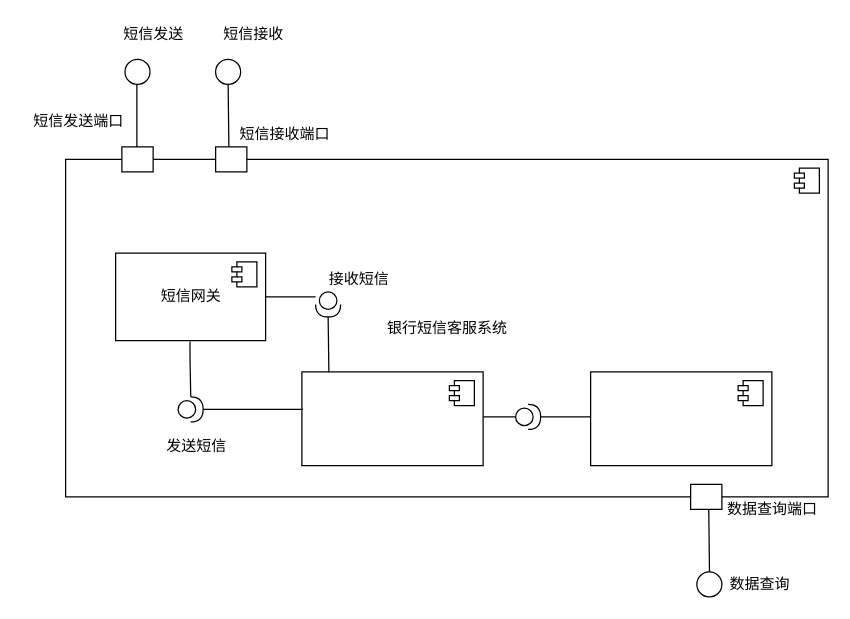
The diagram is 850 pixels wide and 619 high, and some of its shapes have lost their labels. The centre of each missing label's shape, as x and y in pixels:
"客服系统" goes at pixel 392 418.
"银行业务系统" goes at pixel 680 418.
